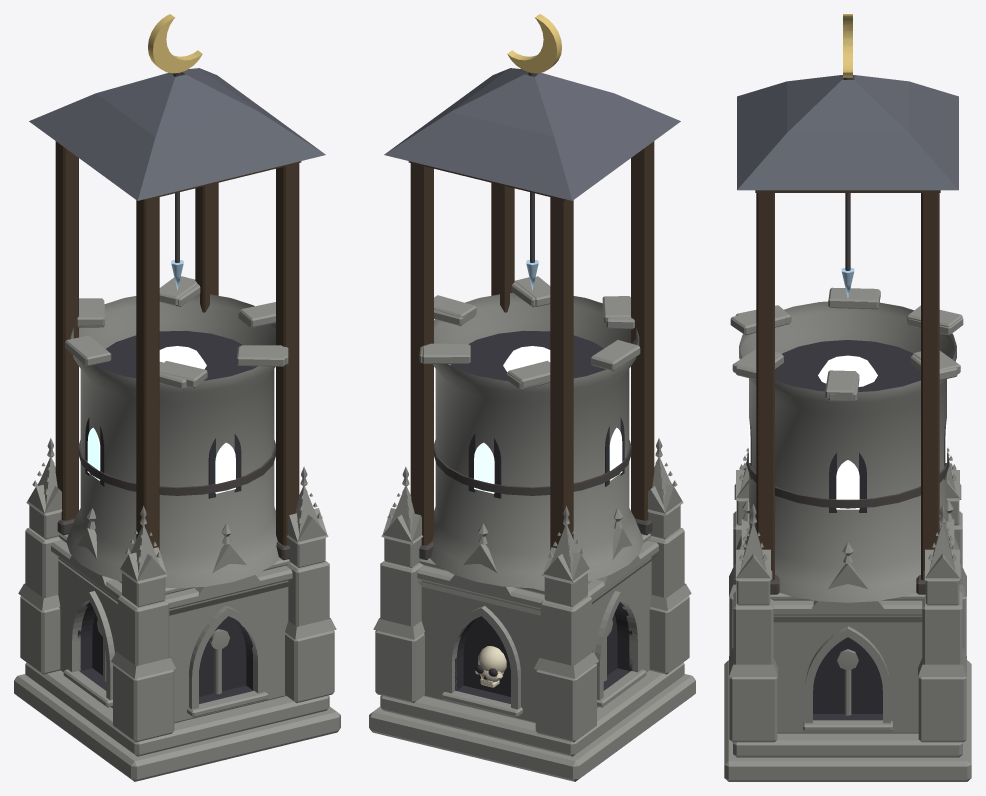
The model's file is tower_well_2.glb.
The picture shows the model from 3 angles, left to right: view 1: azimuth 30°, elevation 25°; view 2: azimuth 150°, elevation 25°; view 3: azimuth 270°, elevation 25°; orthographic projection. The views are drawn at different scales.
Parts seen in each view (by area): view 1: tower; view 2: tower; view 3: tower.
Boxes of the visible parts, box(x1,y1,x2,y2) form: tower: box(14, 14, 340, 781); tower: box(369, 14, 695, 781); tower: box(724, 14, 971, 781).
Bounding box in the file's own units: 1.72 × 5.42 × 1.7.
